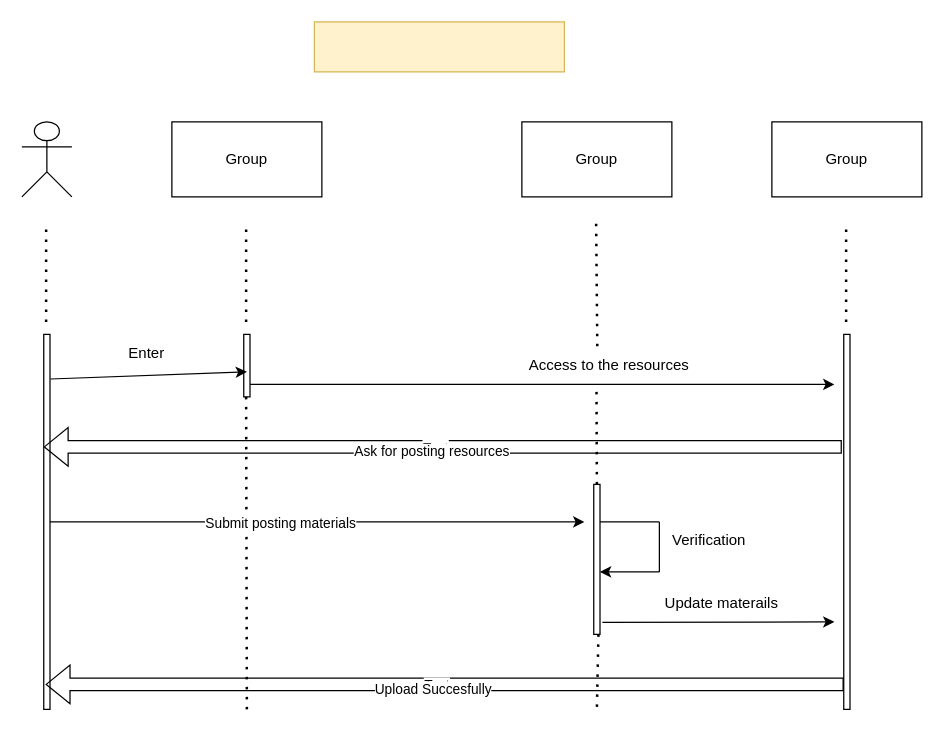
Image size: 944x734. Some labels were removed from this diagram. The shapes that lost their labels are listed below. From the top down, each one's centre as x and y in pixels, then its label:
At point (438, 46): "Post Resources".
At point (46, 159): "Users".
